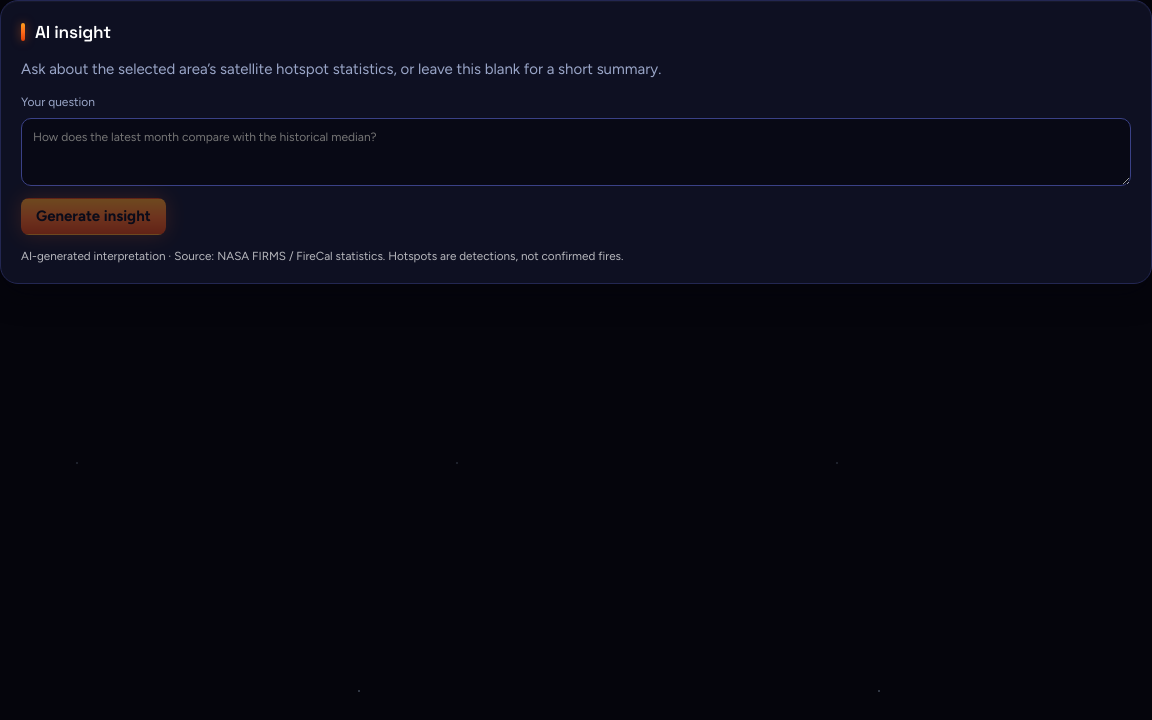
Scenario: sends a user question with the selected area and displays the answer
The width and height of the screenshot is (1152, 720).
Replace the text in the text box labelled "Your question" with "What caused these detections?" at (576, 152), box [21,118,1131,186]
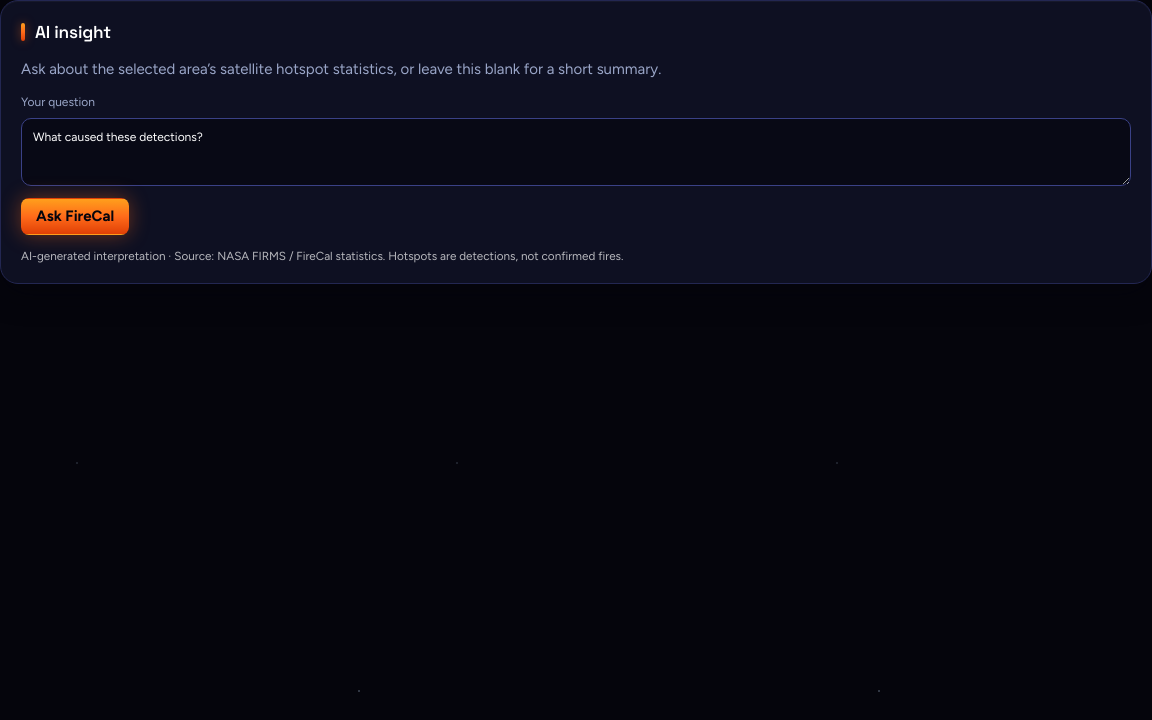
Check: the button "Ask FireCal" is enabled
Click the button "Ask FireCal" at (75, 216), box [21,198,129,235]
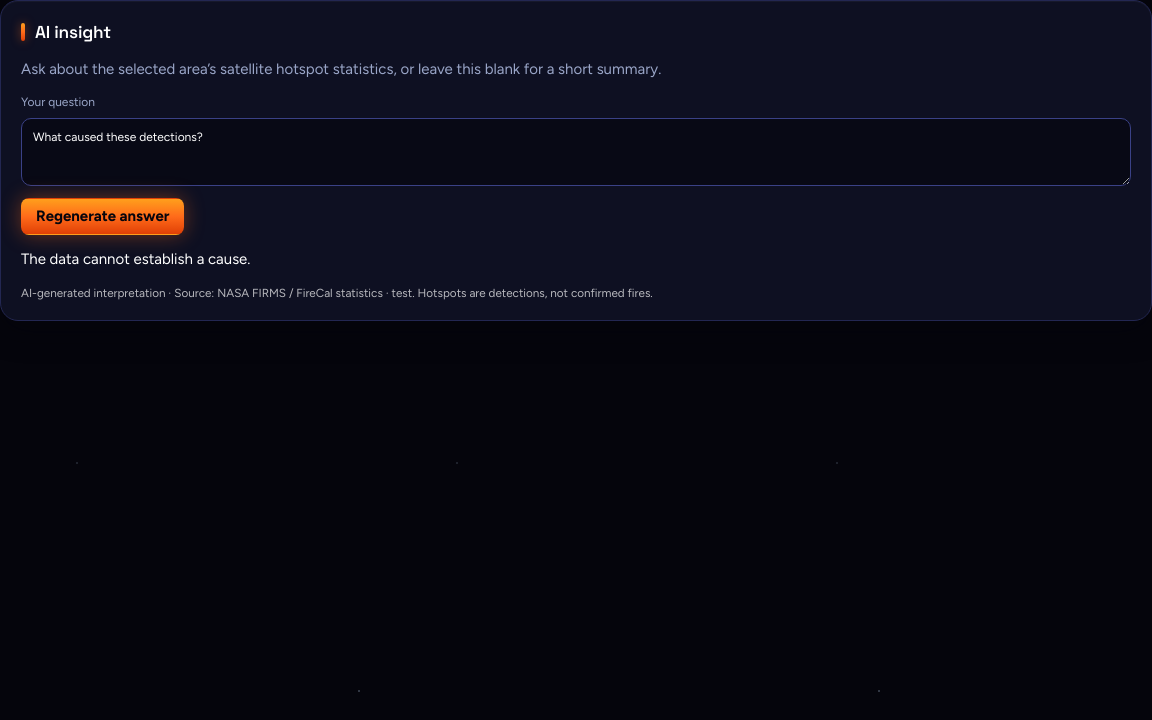
Check: the text "The data cannot establish a cause." is shown, box [21,247,250,272]
